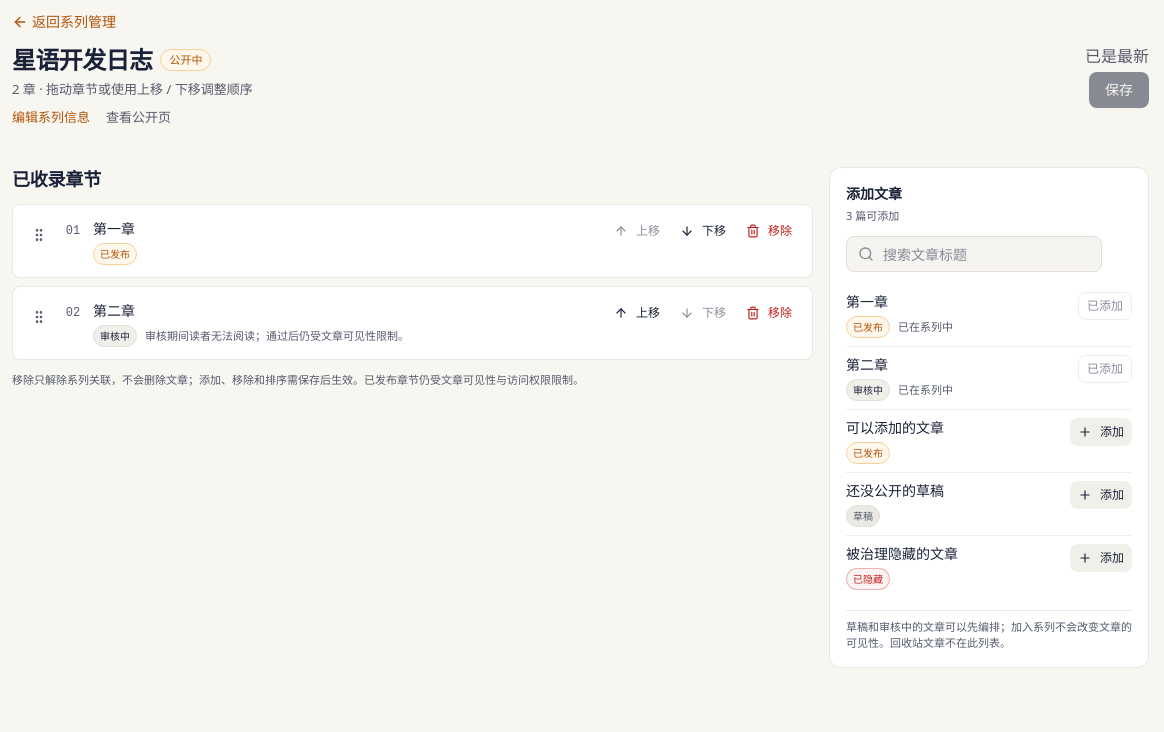
Test: SeriesArticlesPage › protects refresh only while dirty and removes protection after saving
Click the button with aria-label "下移：第一章": (703, 231) [672,217,734,245]
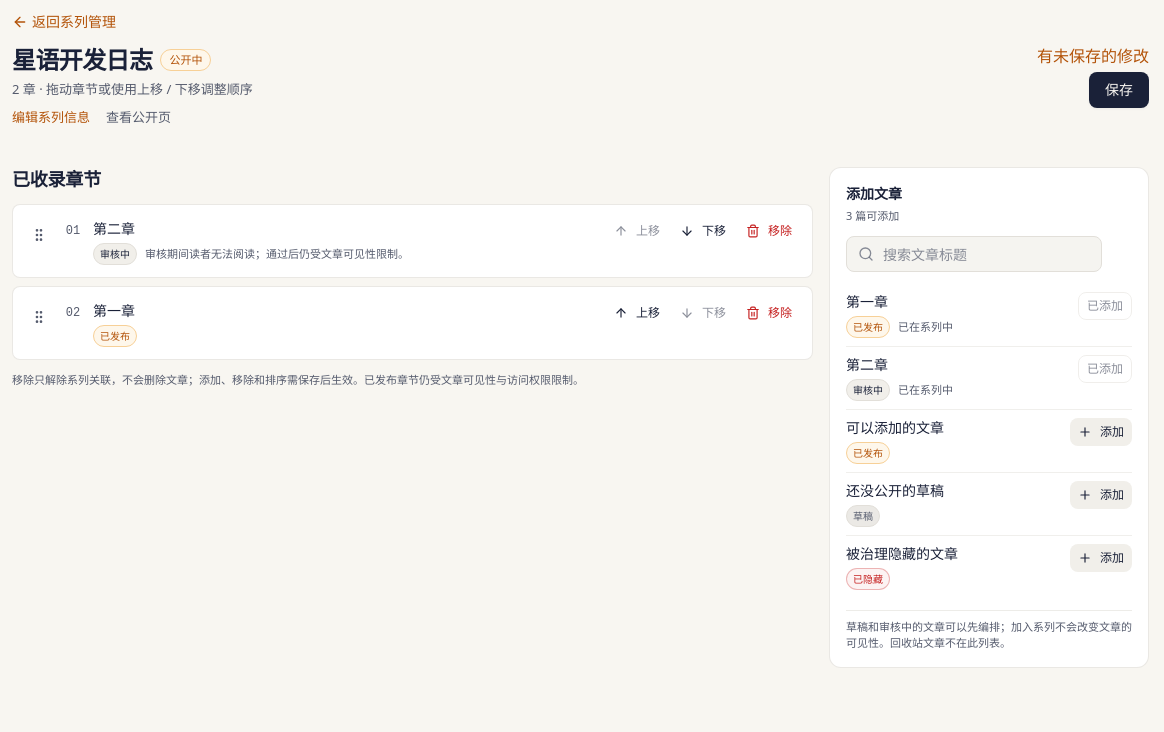
Click the button "保存": (1119, 90) [1089,72,1149,108]
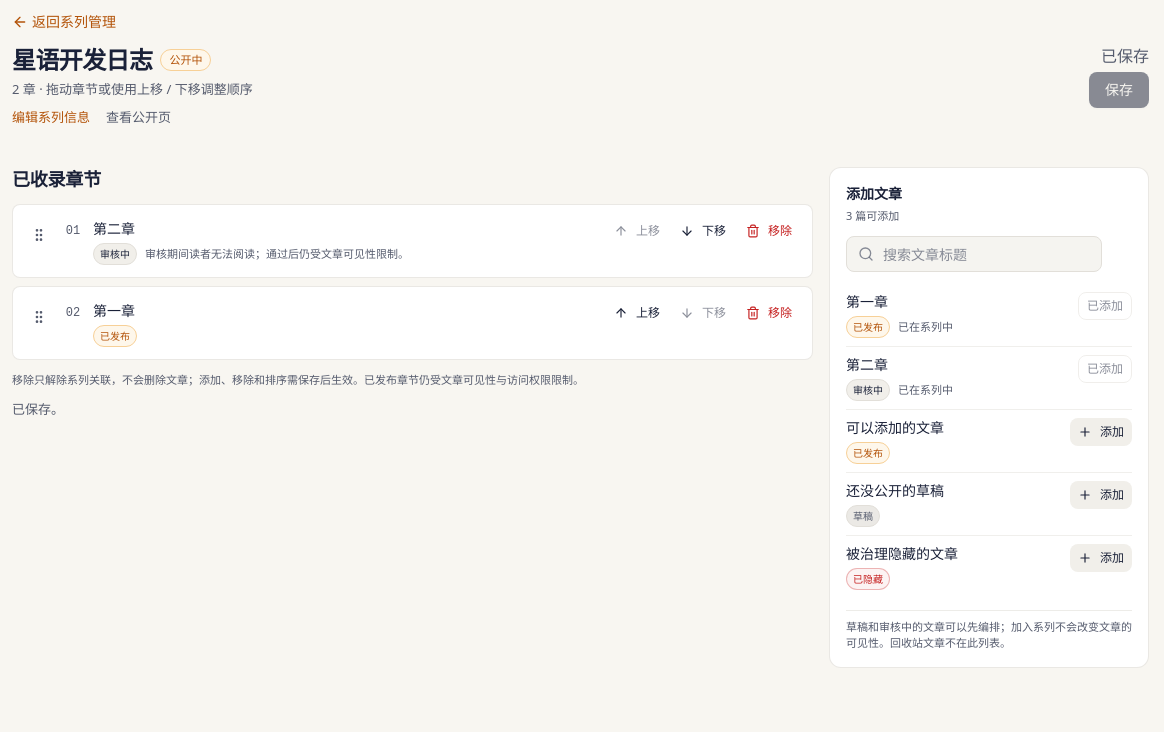
Check: the text "已保存。" is shown, box [12,400,64,418]
